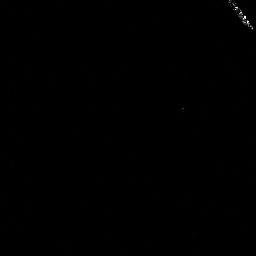ship: (225, 1, 254, 30)
